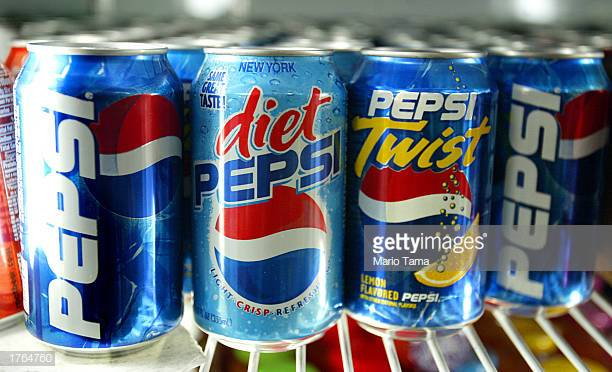pepsi: (209, 184, 326, 304), (209, 188, 326, 304), (86, 94, 184, 216), (355, 161, 468, 248), (548, 91, 606, 196)
